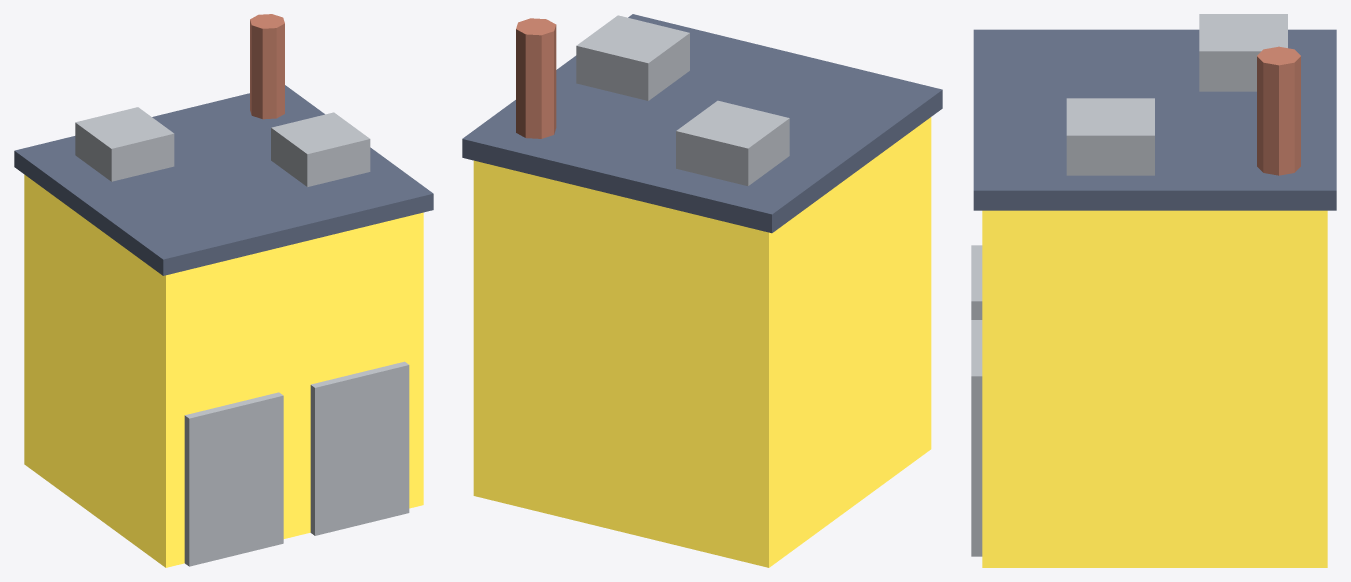
Rendered from industrial_2.glb.
3 views of the same model, side by side, from view 1: azimuth 30°, elevation 25°; view 2: azimuth 150°, elevation 25°; view 3: azimuth 270°, elevation 25° (orthographic). The views are drawn at different scales.
Parts seen in each view (by area): view 1: industrial_2; view 2: industrial_2; view 3: industrial_2.
Boxes of the visible parts, x1,y1,x2,y2 form: industrial_2: (14,14,433,567); industrial_2: (462,14,942,567); industrial_2: (971,14,1336,567).
Size of the model in its own units: 0.86 by 1.23 by 0.825.
